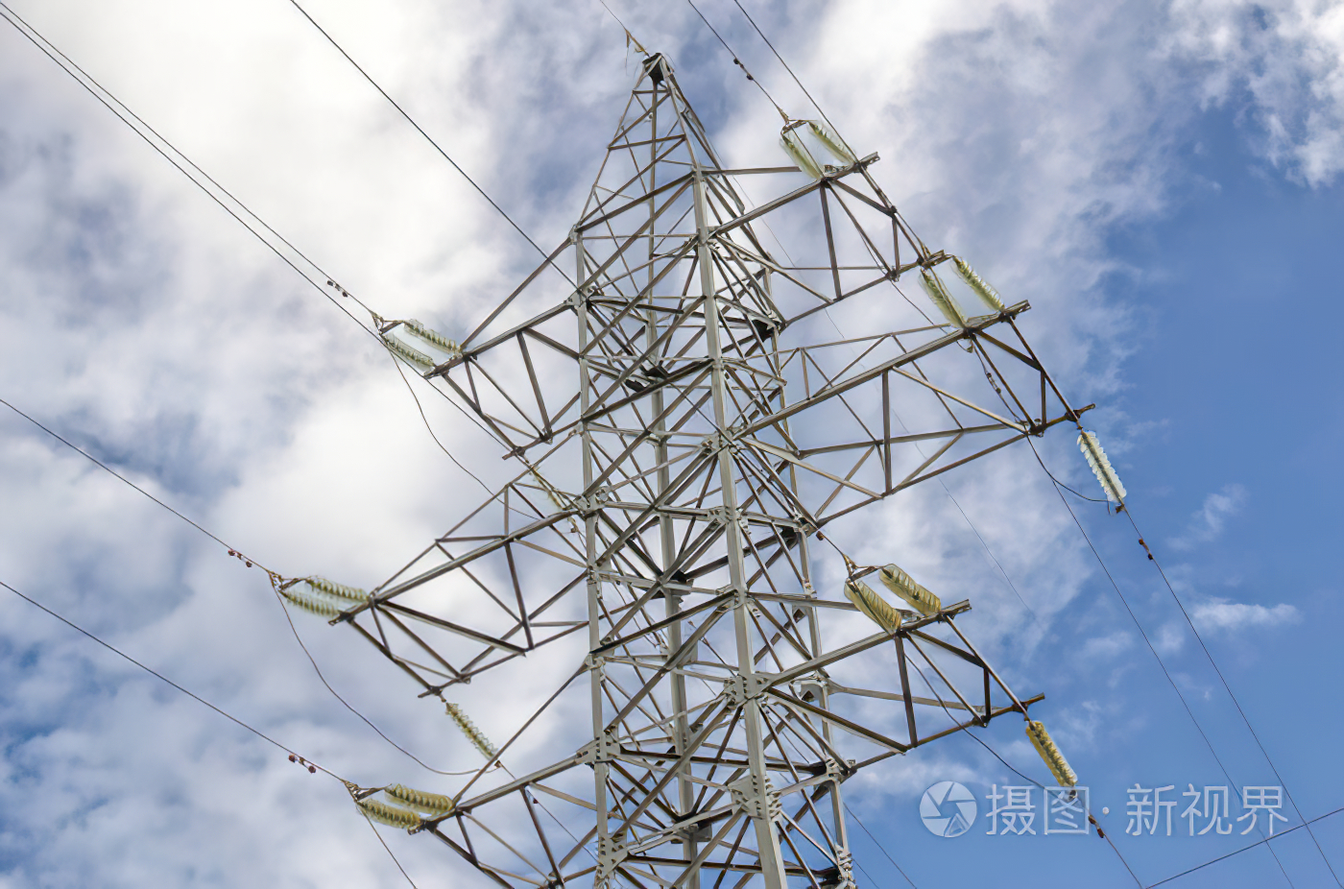insulator: (1077, 428, 1127, 504), (1025, 719, 1078, 788), (948, 258, 1007, 315), (843, 577, 900, 633), (880, 565, 940, 615), (445, 705, 498, 759), (382, 332, 441, 373), (385, 783, 457, 816), (915, 275, 963, 322), (352, 800, 417, 834), (275, 590, 342, 622), (808, 119, 853, 166), (401, 323, 467, 355), (306, 577, 372, 608), (775, 133, 818, 176)
